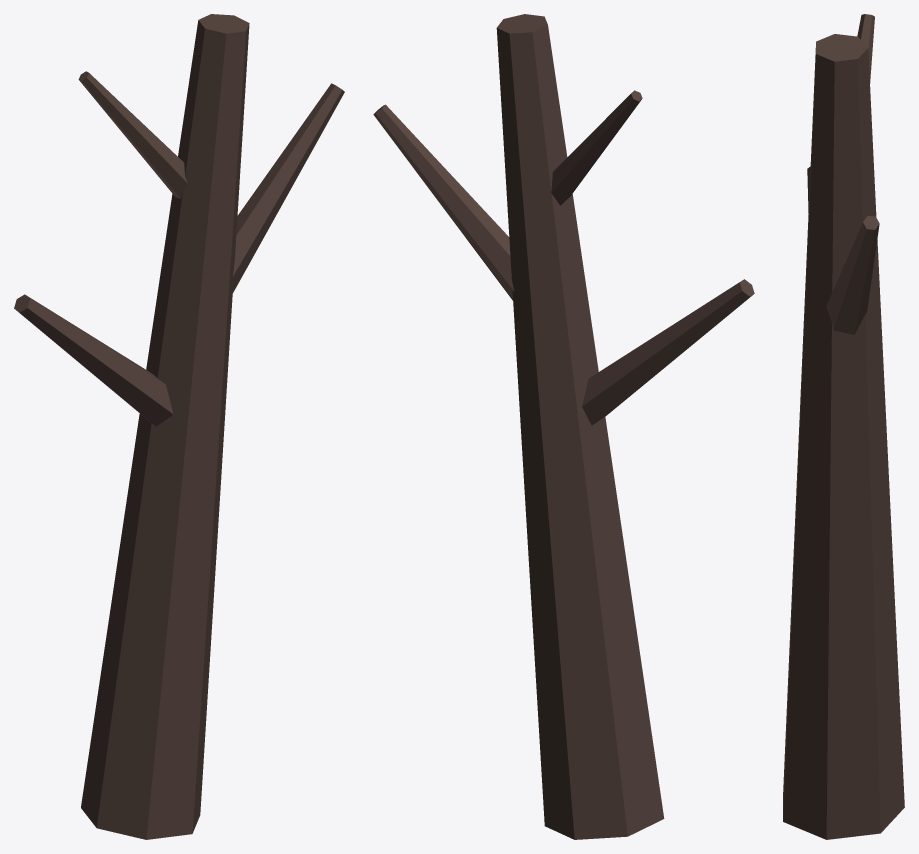
Rendered from EXT_DeadTree_00.glb.
3 renders of one model, left to right at view 1: azimuth 30°, elevation 25°; view 2: azimuth 150°, elevation 25°; view 3: azimuth 270°, elevation 25°, orthographic. The views are drawn at different scales.
Parts seen in each view (by area): view 1: EXT_DeadTree_00; view 2: EXT_DeadTree_00; view 3: EXT_DeadTree_00.
Boxes of the visible parts, box(x1,y1,x2,y2) form: EXT_DeadTree_00: box(14, 14, 344, 839); EXT_DeadTree_00: box(373, 14, 754, 839); EXT_DeadTree_00: box(783, 14, 904, 839).
Bounding box in the file's own units: 2.76 × 5.87 × 0.7984.
